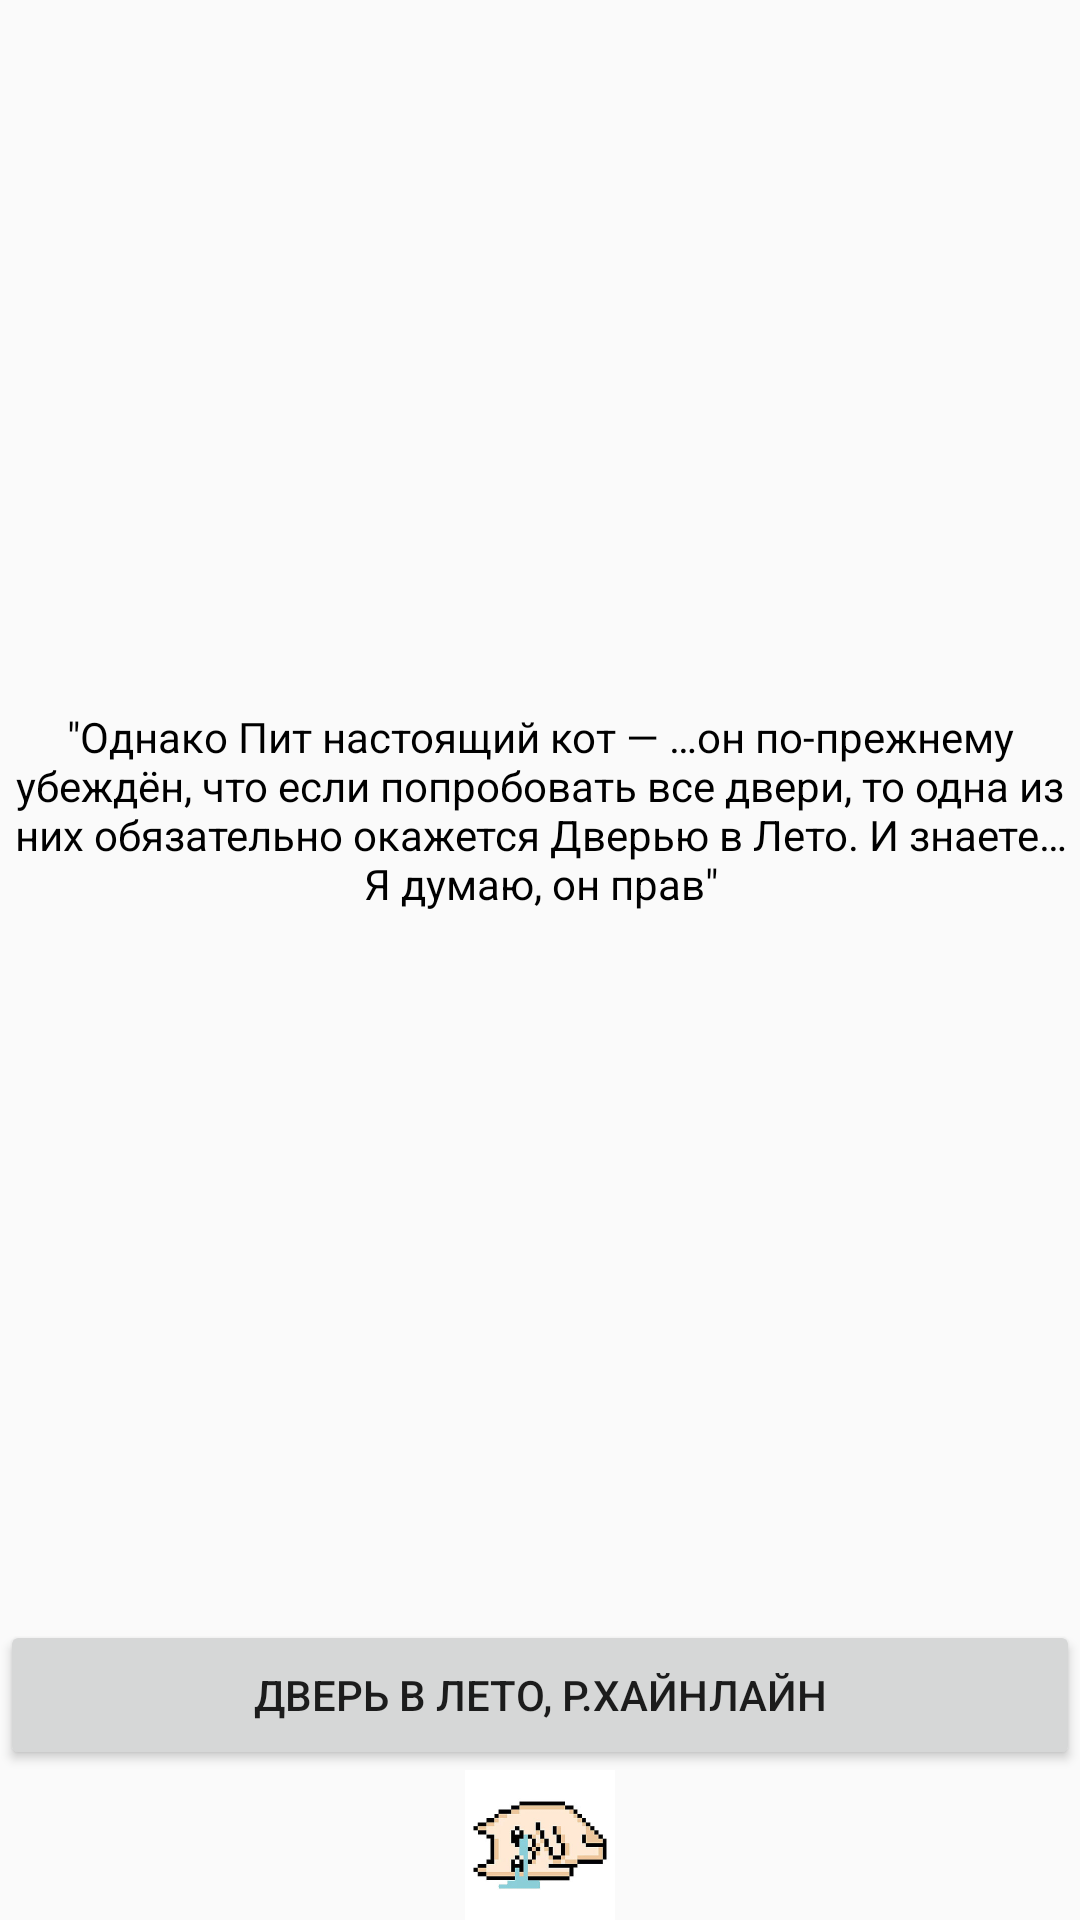

Icons on this 1080w x 1920h Android screen, each with the point to tap as (x,y):
cat: (540,1845)
